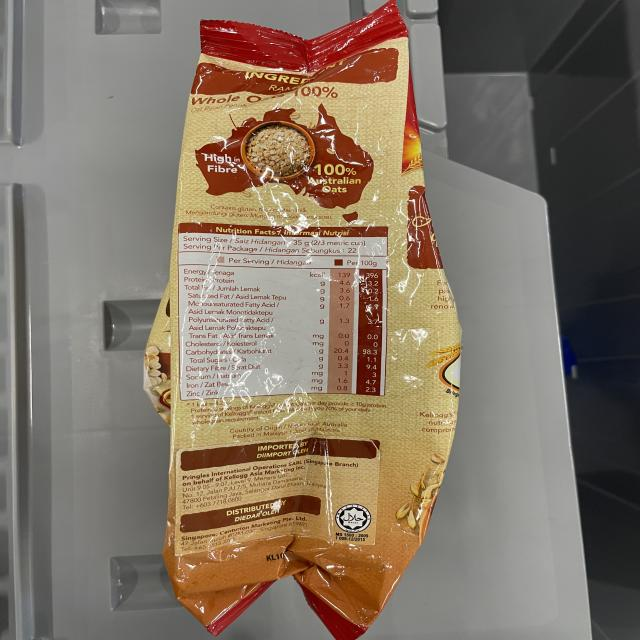object_name: (170, 27, 428, 618)
